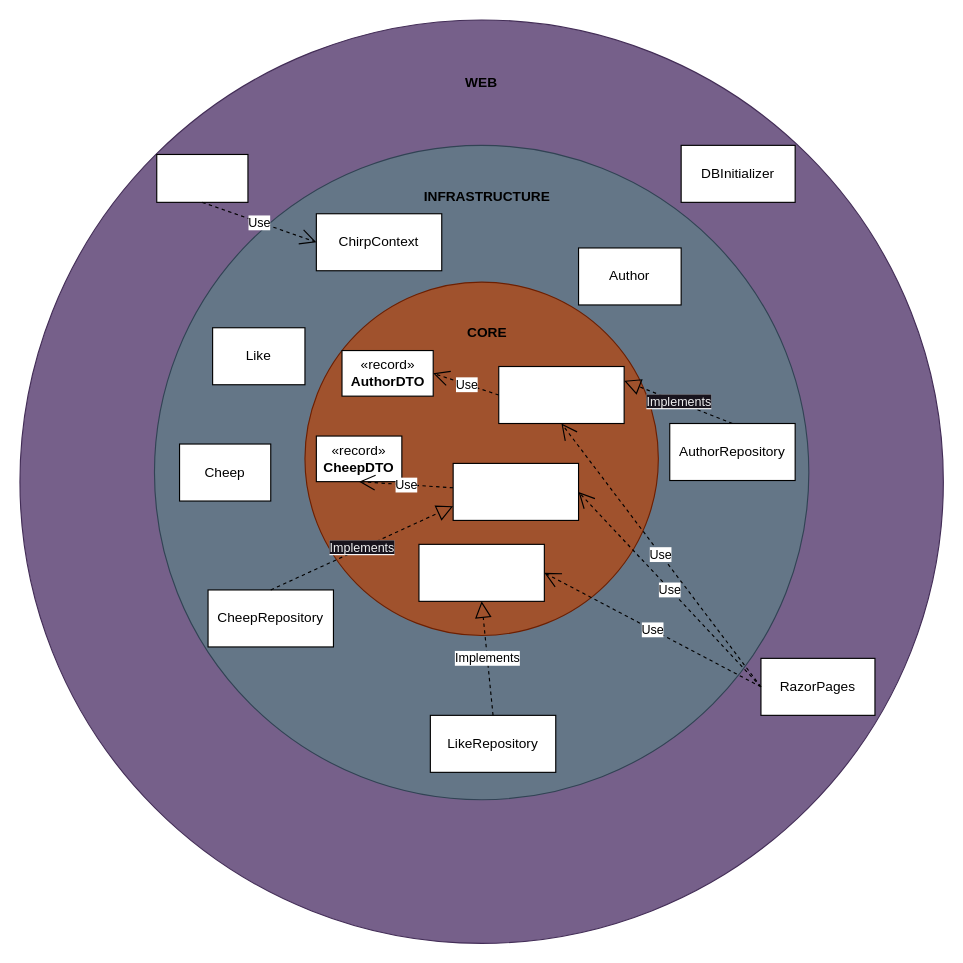
The diagram is 963 pixels wide and 963 high, and some of its shapes have lost their labels. The centre of each missing label's shape, as x and y in pixels:
"Program" belongs at [202,177].
"«interface» IAuthorRepository" belongs at [561,394].
"«interface» ICheepRepository" belongs at [515,491].
"«interface» ILikeRepository" belongs at [481,572].
